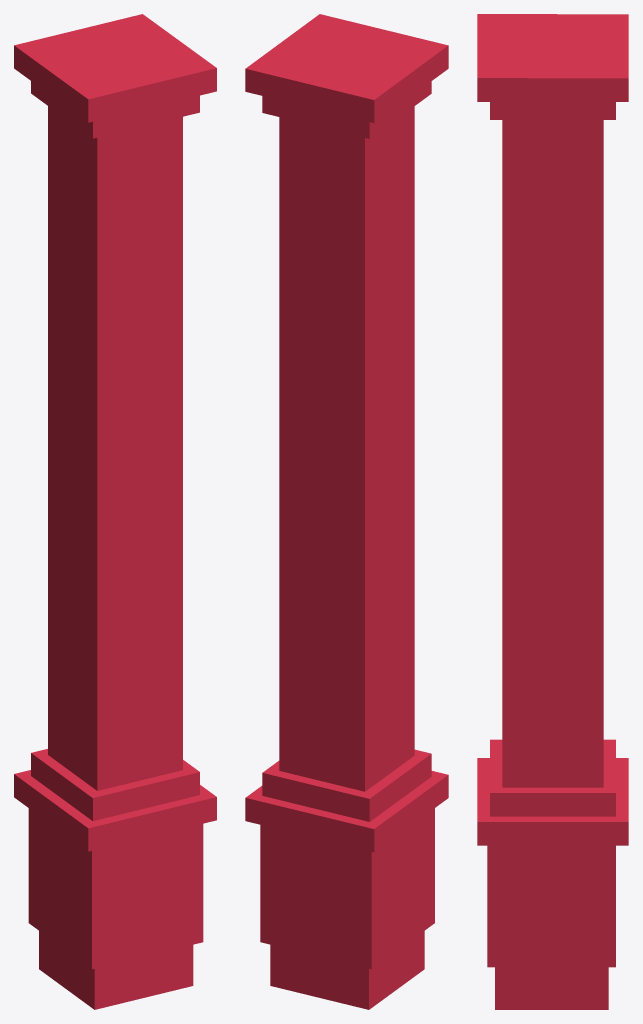
The model's file is SM_town_BD_2Fpillar.fbx.
The picture shows the model from 3 angles, left to right: view 1: azimuth 30°, elevation 25°; view 2: azimuth 150°, elevation 25°; view 3: azimuth 270°, elevation 25°; orthographic projection. The views are drawn at different scales.
Visible parts, largest first — view 1: 2F_side_mid_low; view 2: 2F_side_mid_low; view 3: 2F_side_mid_low.
Boxes of the visible parts, x1,y1,x2,y2 form: 2F_side_mid_low: (14,14,216,1009); 2F_side_mid_low: (245,14,448,1009); 2F_side_mid_low: (477,14,628,1009).
Bounding box in the file's own units: 60 × 410 × 60.
